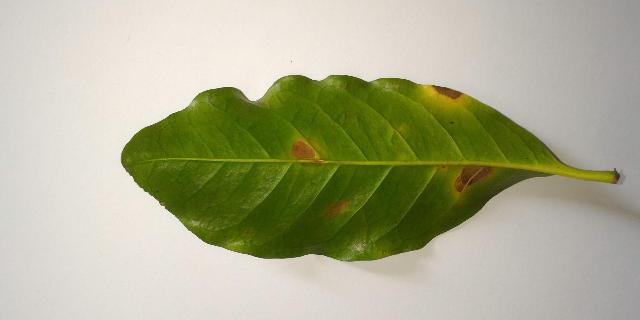cercospora: (453, 164, 496, 200), (424, 85, 466, 104), (292, 139, 323, 164), (323, 200, 350, 216)
